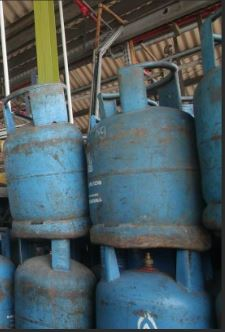blue_gas: (86, 64, 200, 244), (3, 84, 88, 237), (98, 244, 211, 332), (14, 235, 96, 332), (195, 21, 225, 226)
